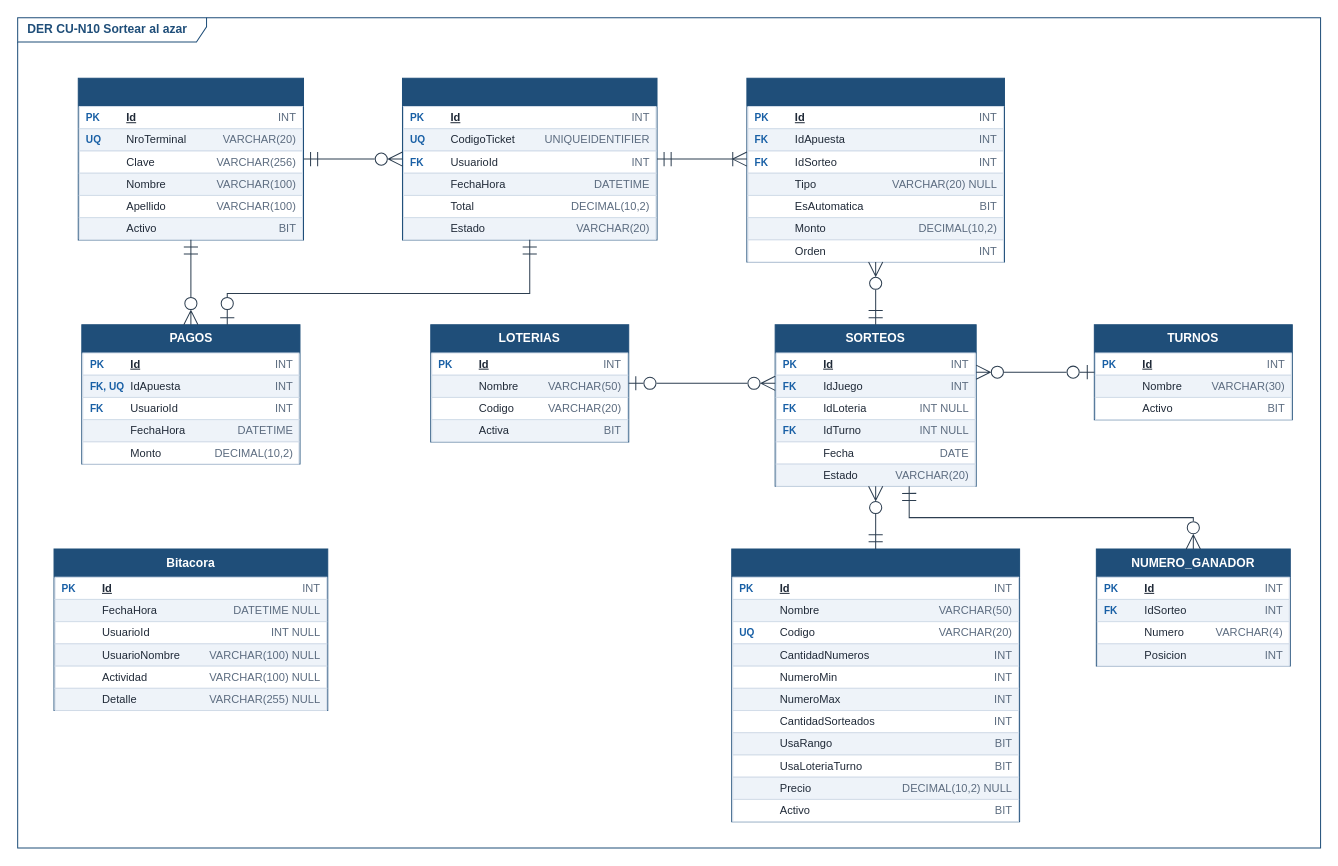
This 1338x866 diagram has some shape labels left out. Each missing label, with the box of its shape:
APUESTAS: (401, 77, 657, 240)
JUEGOS: (731, 548, 1020, 822)
JUGADAS: (746, 77, 1004, 262)
USUARIOS: (77, 77, 304, 240)
